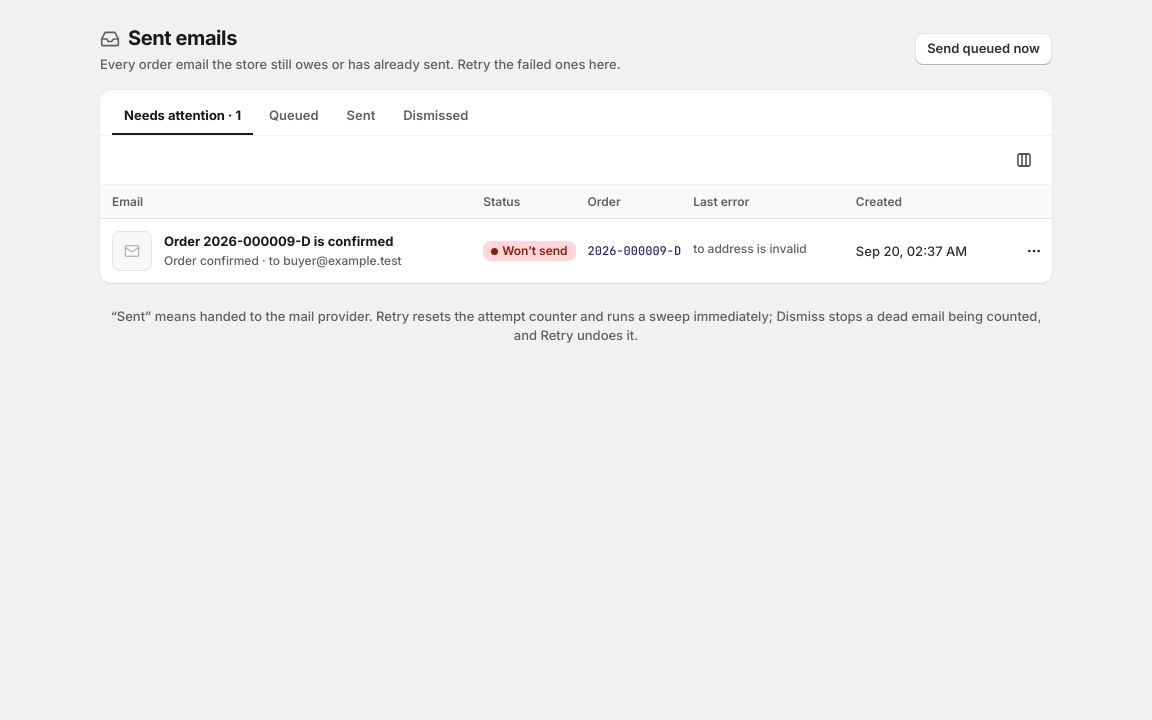
the two verbs › Retry now POSTs to the retry route and reports the delivery
Expected: the text "Order 2026-000009-D is confirmed" is shown, [164,232,402,251]
What coordinates should you click on to do the following:
click the button named "Actions for Order"
I would click on:
 (1034, 251)
Its box is [1016,233,1052,269].
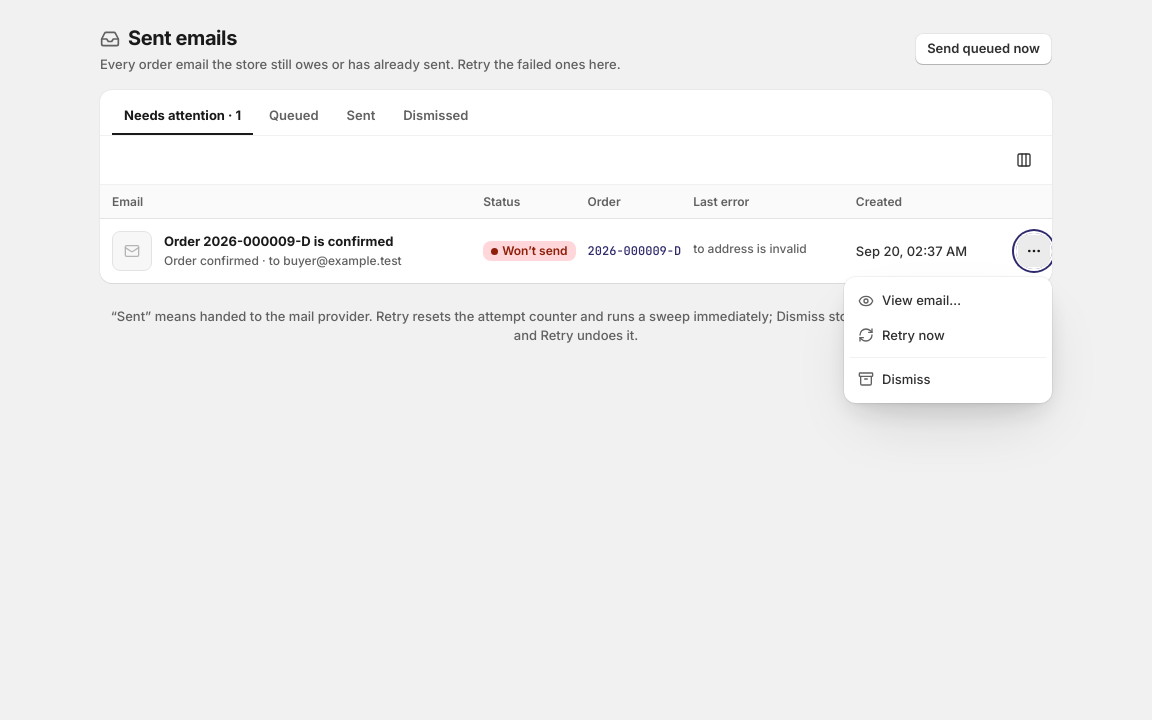
What coordinates should you click on to do the following:
click the menu item "Retry now"
I would click on:
 (948, 335)
Its box is [850,318,1046,353].
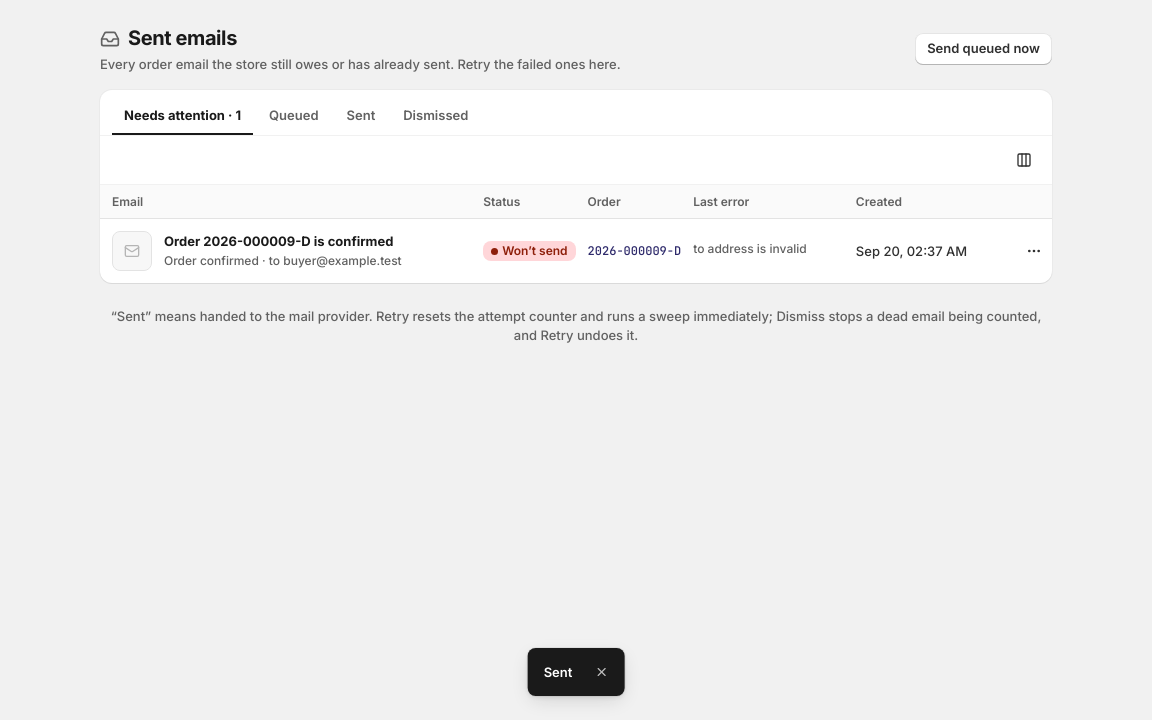
Now the text "Sent" is shown, box [544,663,572,681]
